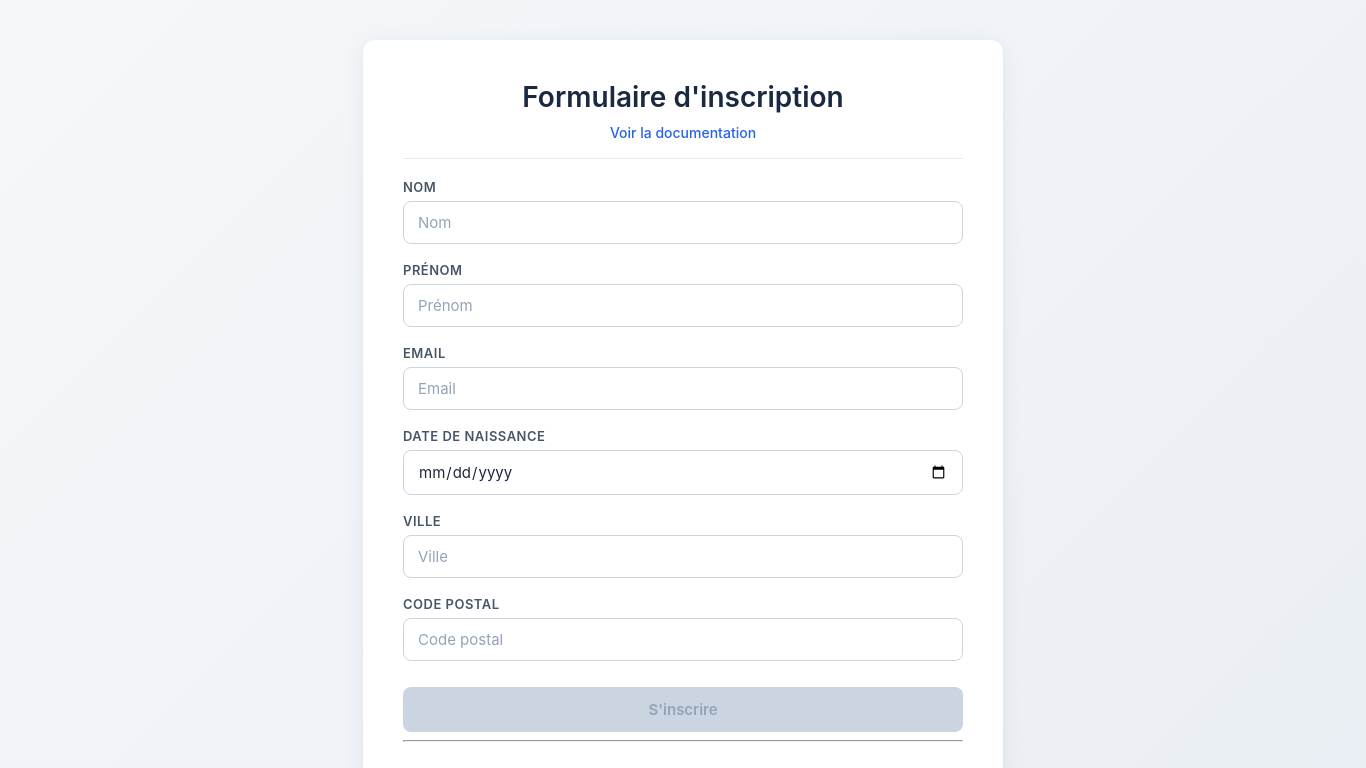
Test: Validation des champs › affiche une erreur si le nom contient des chiffres
The width and height of the screenshot is (1366, 768).
Type "123" into the field labelled "Nom" at x=683, y=222, box left=403, top=201, right=963, bottom=244
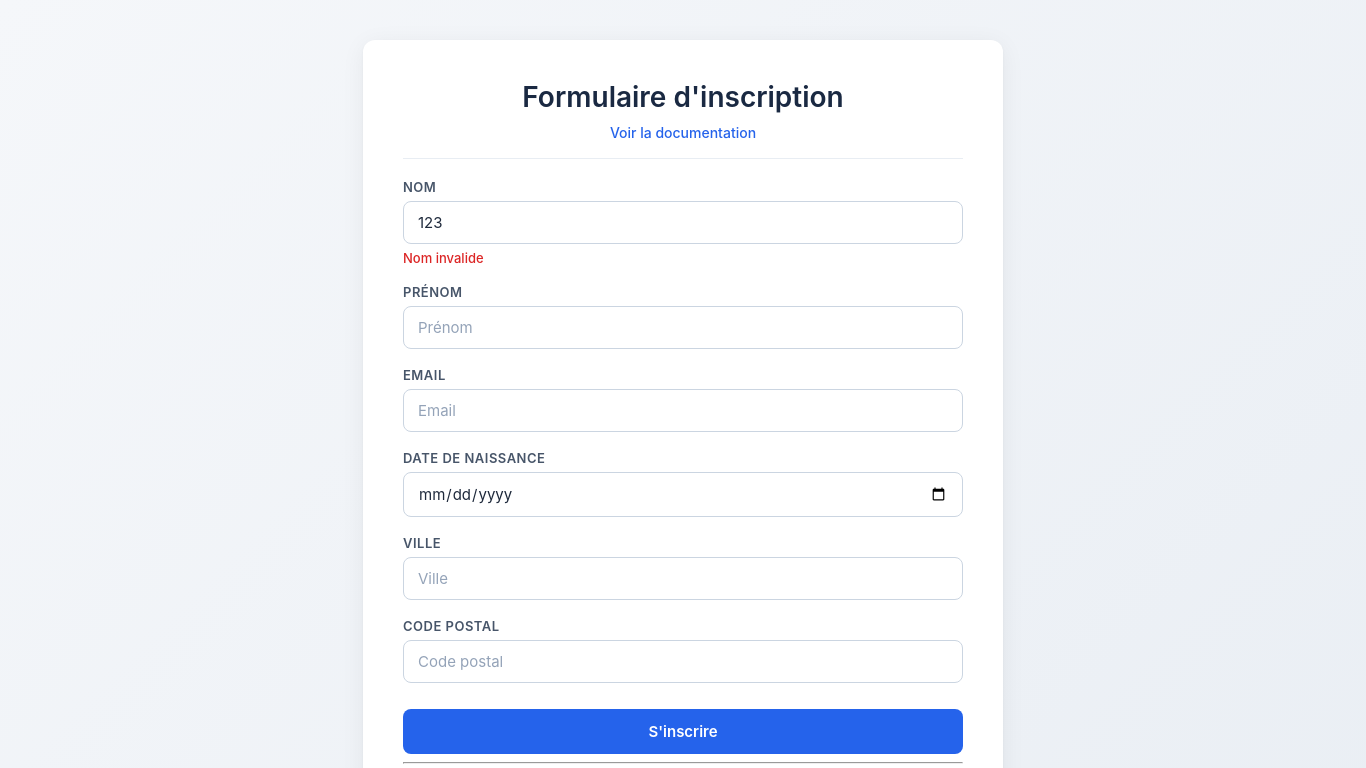
Expected: the text "Nom invalide" is shown, left=403, top=250, right=484, bottom=266
